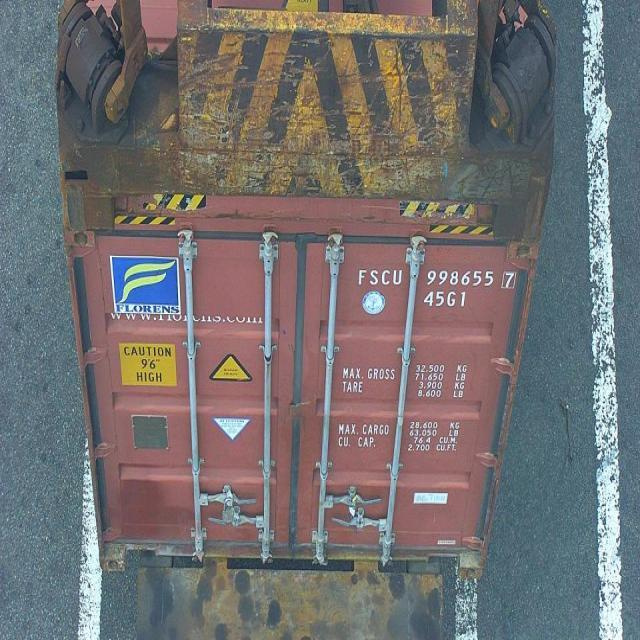ISO: (424, 289, 466, 308)
container_number: (355, 261, 518, 295)
